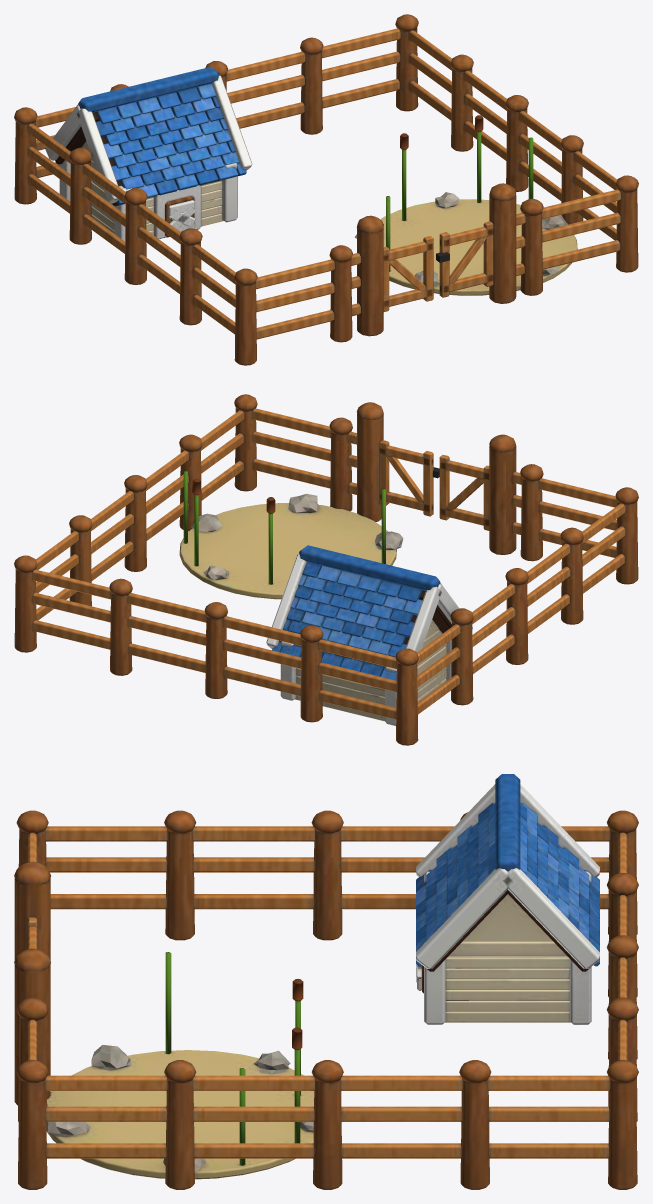
Rendered from toulouse_pen.glb.
The picture shows the model from 3 angles, top to bottom: view 1: azimuth 30°, elevation 25°; view 2: azimuth 150°, elevation 25°; view 3: azimuth 270°, elevation 25°; orthographic projection. The views are drawn at different scales.
Parts seen in each view (by area): view 1: toulouse_pen, gate1, gate0; view 2: toulouse_pen, gate1, gate0; view 3: toulouse_pen.
Boxes of the visible parts, x1,y1,x2,y2 form: toulouse_pen: (14, 14, 638, 365); gate1: (436, 221, 493, 297); gate0: (383, 236, 433, 311); toulouse_pen: (14, 394, 638, 745); gate1: (379, 440, 439, 516); gate0: (439, 455, 489, 530); toulouse_pen: (14, 774, 638, 1189).
Size of the model in its own units: 2 by 0.615 by 2.01.
Materials: 1 (1 with a texture image).
